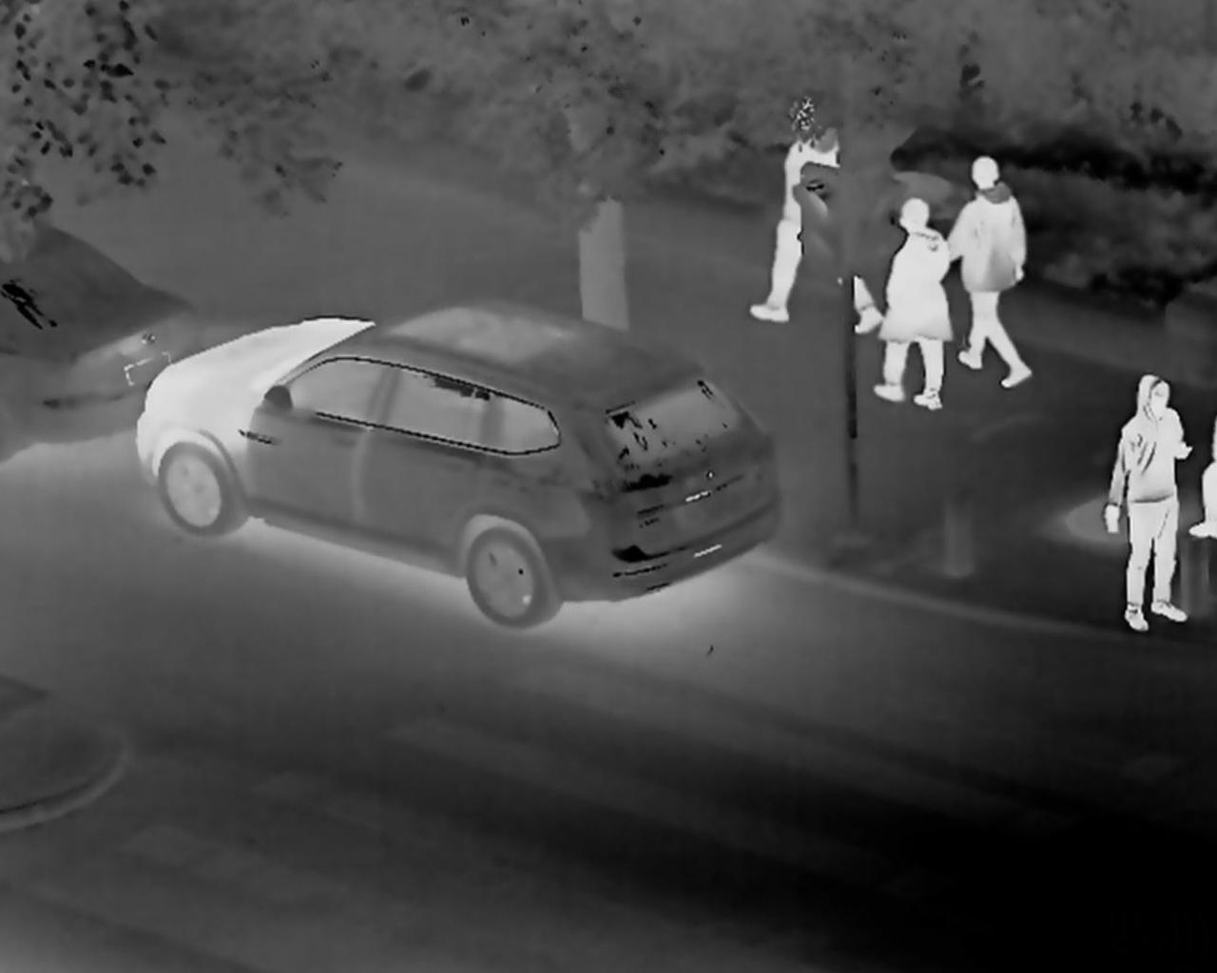person: (744, 94, 882, 335), (1100, 366, 1194, 632), (936, 155, 1037, 391), (868, 195, 948, 415)
